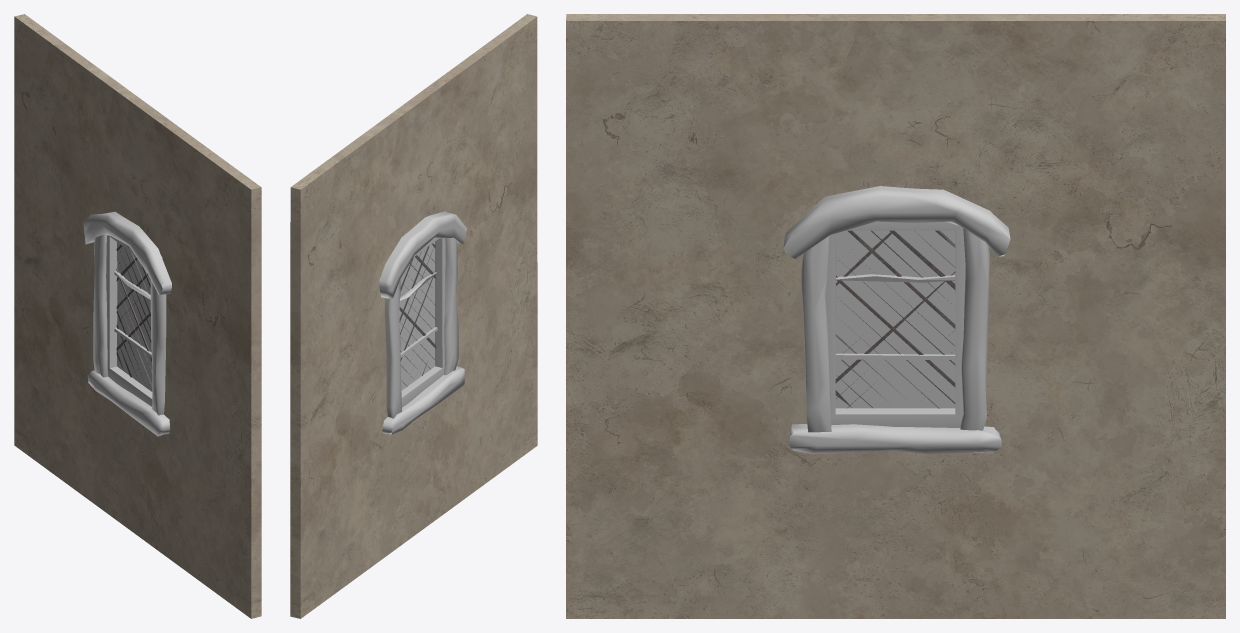
Rendered from SM_Wall_Window_02.fbx.
3 views of the same model, side by side, from view 1: azimuth 30°, elevation 25°; view 2: azimuth 150°, elevation 25°; view 3: azimuth 270°, elevation 25° (orthographic). The views are drawn at different scales.
Parts seen in each view (by area): view 1: SM_Wall_Window_02_LOD0; view 2: SM_Wall_Window_02_LOD0; view 3: SM_Wall_Window_02_LOD0.
Boxes of the visible parts, left/top/right/bottom form: SM_Wall_Window_02_LOD0: left=14, top=14, right=261, bottom=618; SM_Wall_Window_02_LOD0: left=290, top=14, right=537, bottom=618; SM_Wall_Window_02_LOD0: left=566, top=14, right=1225, bottom=618.
Bounding box in the file's own units: 37.31 × 400 × 400.
